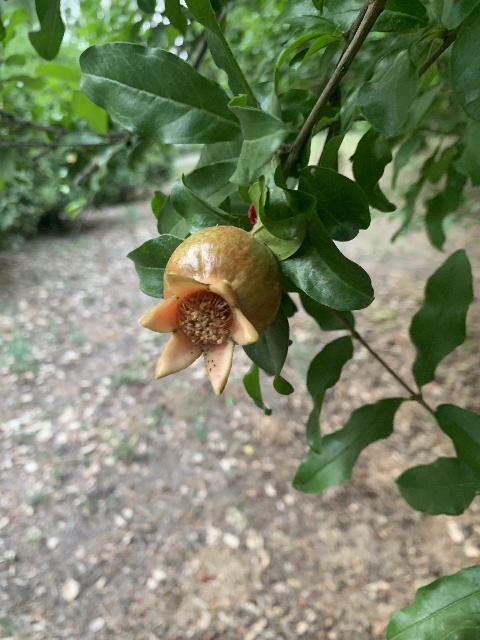early-fruit: (139, 226, 282, 396)
